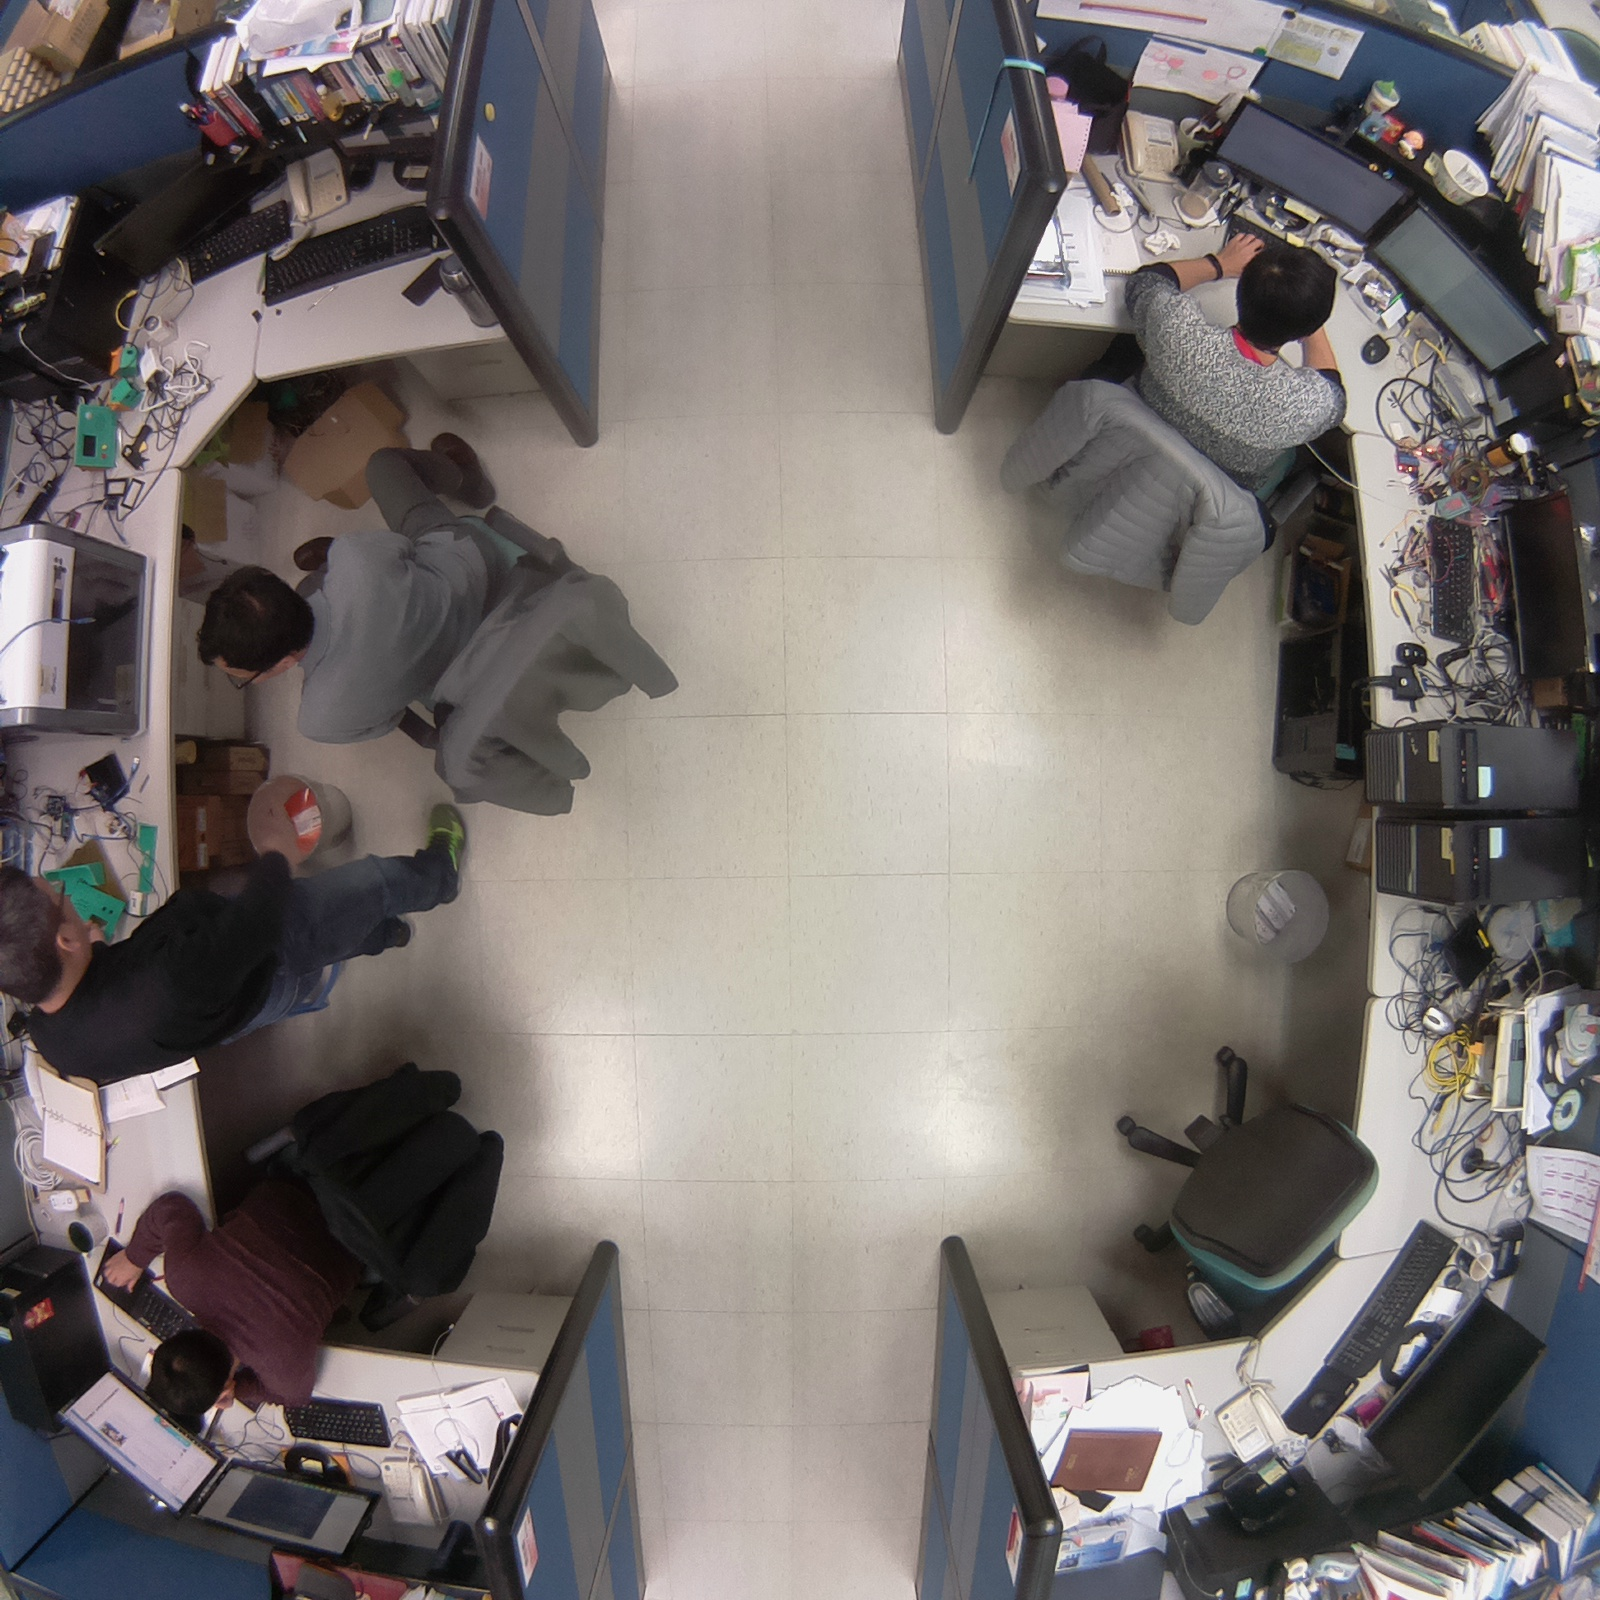chair: (1083, 1034, 1396, 1352)
head: (191, 559, 317, 693), (1, 857, 93, 1011), (1229, 236, 1344, 348), (142, 1323, 240, 1429)
sitting: (179, 414, 691, 837), (96, 1042, 524, 1424), (981, 237, 1353, 650)
standing: (1, 784, 481, 1096)
